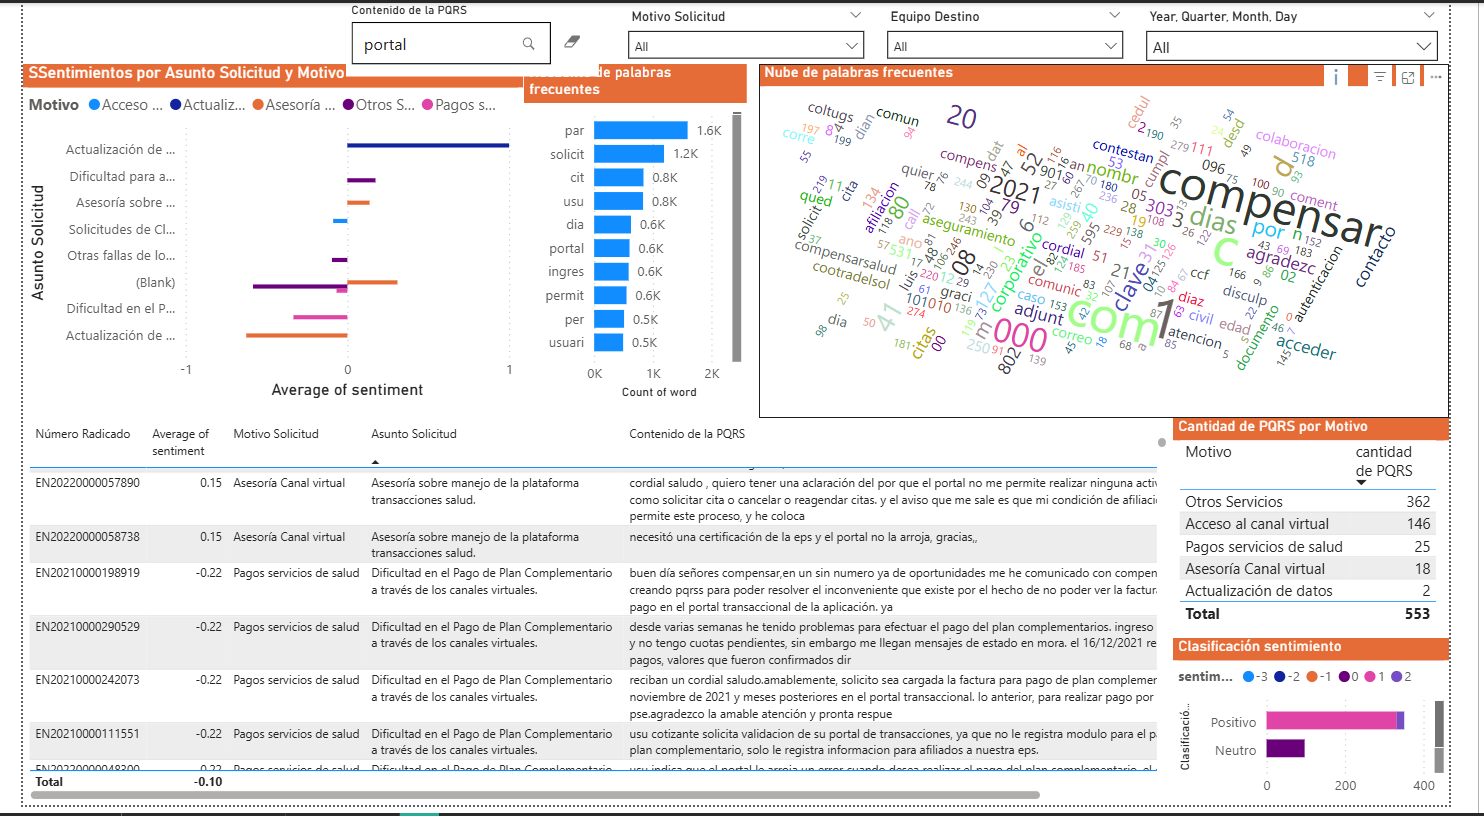

This screenshot's page, from the dashboard's own definition file:
{"tool":"powerbi","page":{"name":"Text analytics","canvas":[1280,720],"ordinal":1},"visuals":[{"type":"image","box":[0,0,120.4,67.3],"z":0},{"type":"slicer","fields":{"Values":["dataframe.Motivo Solicitud"]},"box":[533.2,0,232.3,65.5],"z":1000},{"type":"slicer","fields":{"Values":["dataframe.Equipo Destino"]},"box":[765.5,0,232.3,65.5],"z":2000},{"type":"slicer","fields":{"Values":["Calendario.Fecha.Variación.Date Hierarchy.Year","Calendario.Fecha.Variación.Date Hierarchy.Quarter","Calendario.Fecha.Variación.Date Hierarchy.Month","Calendario.Fecha.Variación.Date Hierarchy.Day"]},"box":[997.9,0,282.1,66],"z":3000},{"type":"WordCloud1447959067750","title":"Nube de palabras frecuentes","fields":{"Category":["text_df.word"]},"box":[660.7,54.3,619.3,318.3],"z":4000},{"type":"tableEx","fields":{"Values":["dataframe.Número Radicado","Avg(Sentiment_Analysis.sentiment)","Motivo.Motivo Solicitud","dataframe.Asunto Solicitud","dataframe.Contenido de la PQRS","Count(dataframe.Contenido de la PQRS)"]},"box":[0,372.6,1032.5,347.6],"z":5000},{"type":"tableEx","title":"Cantidad de PQRS por Motivo","fields":{"Values":["Motivo.Motivo","dataframe.Número Radicado"]},"box":[1032.5,372.6,247.5,197.5],"z":6000},{"type":"clusteredBarChart","title":"SSentimientos por Asunto Solicitud y Motivo","fields":{"Category":["Asunto.Asunto Solicitud"],"Y":["Avg(Sentiment_Analysis.sentiment)"],"Series":["Motivo.Motivo"]},"box":[0,54.3,449.4,305.3],"z":7000},{"type":"barChart","title":"Recuento de palabras frecuentes","fields":{"Category":["text_df.word"],"Y":["CountNonNull(text_df.word)"]},"box":[449.4,54.3,200.1,305.3],"z":8000},{"type":"barChart","title":"Clasificación sentimiento","fields":{"Category":["Sentiment_Analysis.Clasificación sentimiento"],"Series":["Sentiment_Analysis.sentiment"],"Y":["CountNonNull(Sentiment_Analysis.Clasificación sentimiento)"]},"box":[1032.1,570.2,247.9,150.1],"z":9000},{"type":"textFilter25A4896A83E0487089E2B90C9AE57C8A","fields":{"field":["dataframe.Contenido de la PQRS"]},"box":[289.8,0,226.8,65.6],"z":9001}]}

Visuals, with their boxes in screenshot pixels (x1, y1, x2, y2):
image: 15 0 150 75
slicer - dataframe.Motivo Solicitud: 611 0 870 73
slicer - dataframe.Equipo Destino: 870 0 1130 73
slicer - Calendario.Fecha.Variación.Date Hierarchy.Year x Calendario.Fecha.Variación.Date Hierarchy.Quarter: 1130 0 1445 74
"Nube de palabras frecuentes" WordCloud1447959067750: 753 61 1445 416
tableEx - dataframe.Número Radicado x Avg(Sentiment_Analysis.sentiment): 15 416 1169 804
"Cantidad de PQRS por Motivo" tableEx: 1169 416 1445 637
"SSentimientos por Asunto Solicitud y Motivo" clusteredBarChart: 15 61 517 402
"Recuento de palabras frecuentes" barChart: 517 61 741 402
"Clasificación sentimiento" barChart: 1168 637 1445 804
textFilter25A4896A83E0487089E2B90C9AE57C8A - dataframe.Contenido de la PQRS: 339 0 592 73
